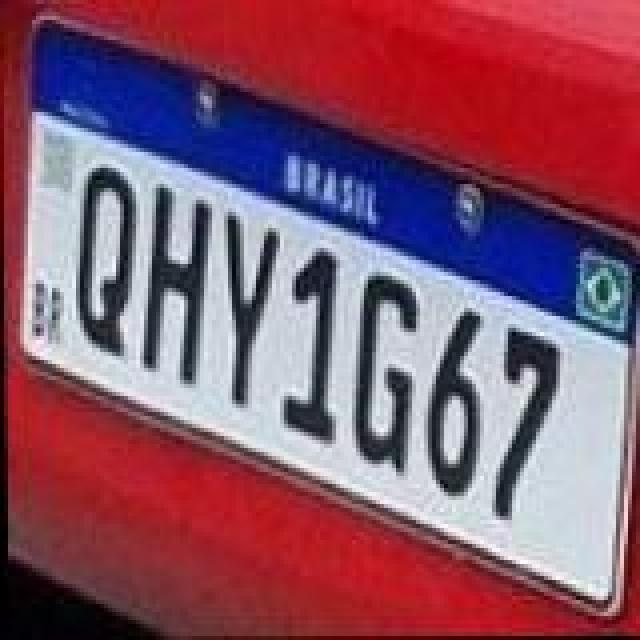1: (274, 244, 342, 448)
6: (418, 308, 486, 504)
7: (484, 318, 564, 522)
G: (350, 270, 426, 478)
H: (136, 174, 216, 382)
Q: (74, 164, 142, 364)
Y: (220, 210, 284, 410)
